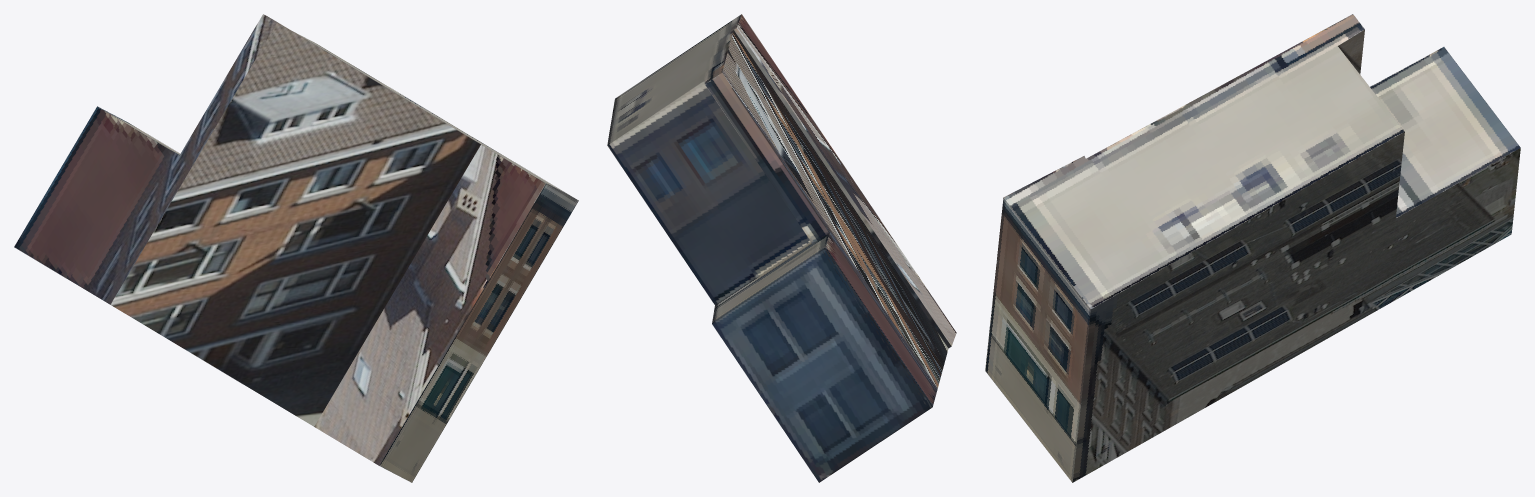
3 views of the same model, side by side, from view 1: azimuth 30°, elevation 25°; view 2: azimuth 150°, elevation 25°; view 3: azimuth 270°, elevation 25° (orthographic). The views are drawn at different scales.
Parts seen in each view (by area): view 1: BAG_0599100000760339 (×3); view 2: BAG_0599100000760339 (×3); view 3: BAG_0599100000760339 (×4).
Part boxes in pixels (left/top/right/bottom): BAG_0599100000760339 (×3): left=14, top=14, right=578, bottom=482; BAG_0599100000760339 (×3): left=607, top=14, right=956, bottom=482; BAG_0599100000760339 (×4): left=985, top=14, right=1520, bottom=482.
Size of the model in its own units: 20.81 by 18.48 by 19.83.
Materials: 1 (1 with a texture image).
